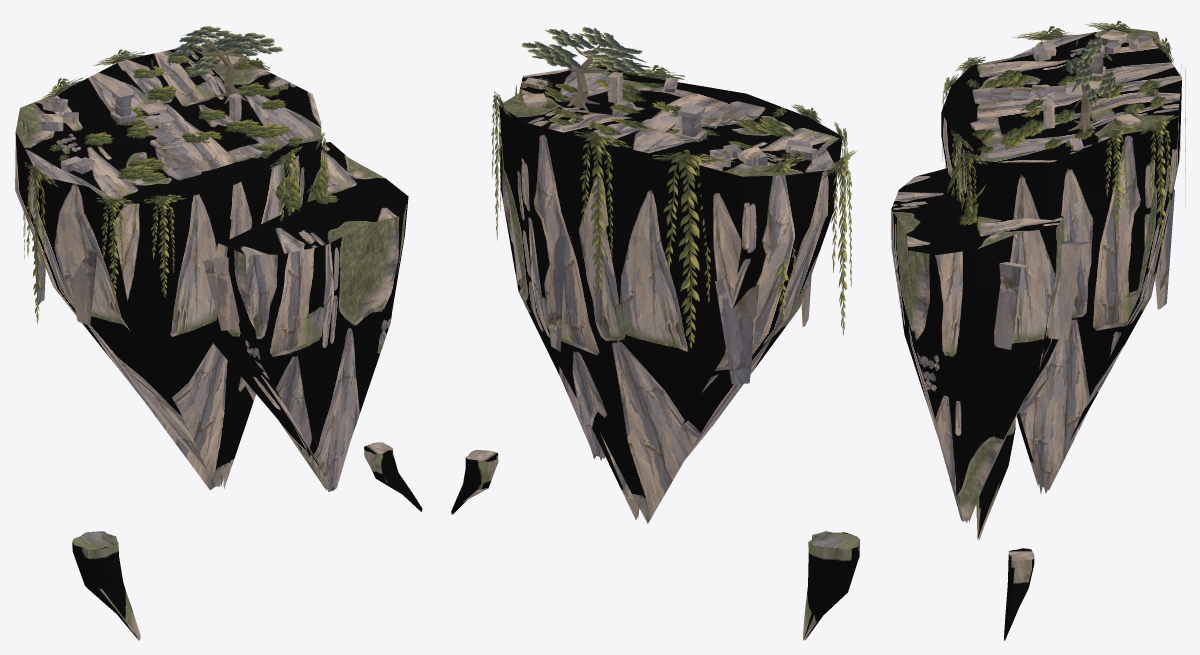
File: chunk.glb
3 renders of one model, left to right at view 1: azimuth 30°, elevation 25°; view 2: azimuth 150°, elevation 25°; view 3: azimuth 270°, elevation 25°, orthographic. The views are drawn at different scales.
Parts seen in each view (by area): view 1: chunk-continuous-fractured-stone, chunk-painted-pine-ivy-and-moss, chunk-ruins-path-and-splintered-ledges, chunk-long-hanging-vine-quads, chunk-satellite-0-continuous-fractured-stone, chunk-satellite-1-continuous-fractured-stone, chunk-summit-soil-and-bent-trunks; view 2: chunk-continuous-fractured-stone, chunk-ruins-path-and-splintered-ledges, chunk-long-hanging-vine-quads, chunk-painted-pine-ivy-and-moss, chunk-satellite-0-continuous-fractured-stone, chunk-satellite-1-continuous-fractured-stone, chunk-summit-soil-and-bent-trunks; view 3: chunk-continuous-fractured-stone, chunk-ruins-path-and-splintered-ledges, chunk-painted-pine-ivy-and-moss, chunk-long-hanging-vine-quads, chunk-satellite-1-continuous-fractured-stone, chunk-satellite-0-continuous-fractured-stone, chunk-summit-soil-and-bent-trunks.
Part boxes in pixels (x1=…): chunk-continuous-fractured-stone: x1=15, y1=46, x2=408, y2=491; chunk-painted-pine-ivy-and-moss: x1=24, y1=26, x2=338, y2=211; chunk-ruins-path-and-splintered-ledges: x1=33, y1=55, x2=288, y2=330; chunk-long-hanging-vine-quads: x1=22, y1=47, x2=326, y2=323; chunk-satellite-0-continuous-fractured-stone: x1=72, y1=531, x2=140, y2=640; chunk-satellite-1-continuous-fractured-stone: x1=364, y1=442, x2=422, y2=511; chunk-summit-soil-and-bent-trunks: x1=191, y1=38, x2=247, y2=103; chunk-continuous-fractured-stone: x1=499, y1=66, x2=842, y2=523; chunk-ruins-path-and-splintered-ledges: x1=495, y1=72, x2=817, y2=384; chunk-long-hanging-vine-quads: x1=491, y1=61, x2=851, y2=348; chunk-painted-pine-ivy-and-moss: x1=494, y1=27, x2=857, y2=179; chunk-satellite-0-continuous-fractured-stone: x1=803, y1=531, x2=859, y2=640; chunk-satellite-1-continuous-fractured-stone: x1=451, y1=450, x2=498, y2=514; chunk-summit-soil-and-bent-trunks: x1=560, y1=44, x2=609, y2=111; chunk-continuous-fractured-stone: x1=891, y1=28, x2=1181, y2=522; chunk-ruins-path-and-splintered-ledges: x1=970, y1=29, x2=1174, y2=349; chunk-painted-pine-ivy-and-moss: x1=942, y1=22, x2=1181, y2=225; chunk-long-hanging-vine-quads: x1=942, y1=20, x2=1185, y2=248; chunk-satellite-1-continuous-fractured-stone: x1=1004, y1=548, x2=1034, y2=640; chunk-satellite-0-continuous-fractured-stone: x1=976, y1=419, x2=1015, y2=540; chunk-summit-soil-and-bent-trunks: x1=1068, y1=52, x2=1098, y2=132.
Size of the model in its own units: 33.36 by 47.82 by 22.61.
Materials: 7 (6 with a texture image).
